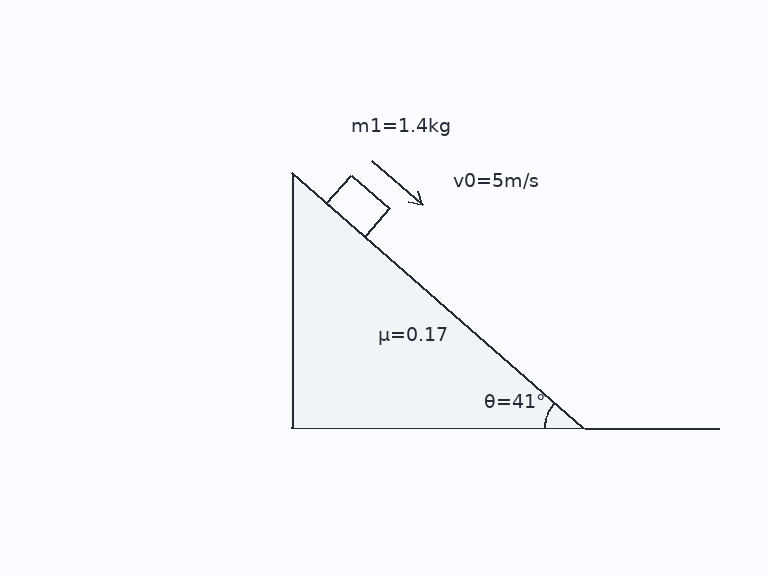block: (324, 173, 391, 238)
ramp: (289, 171, 587, 430)
